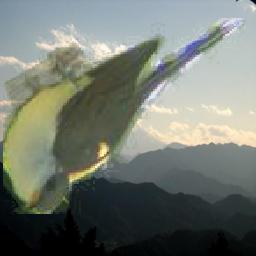Cuckoo: (3, 18, 247, 214)
